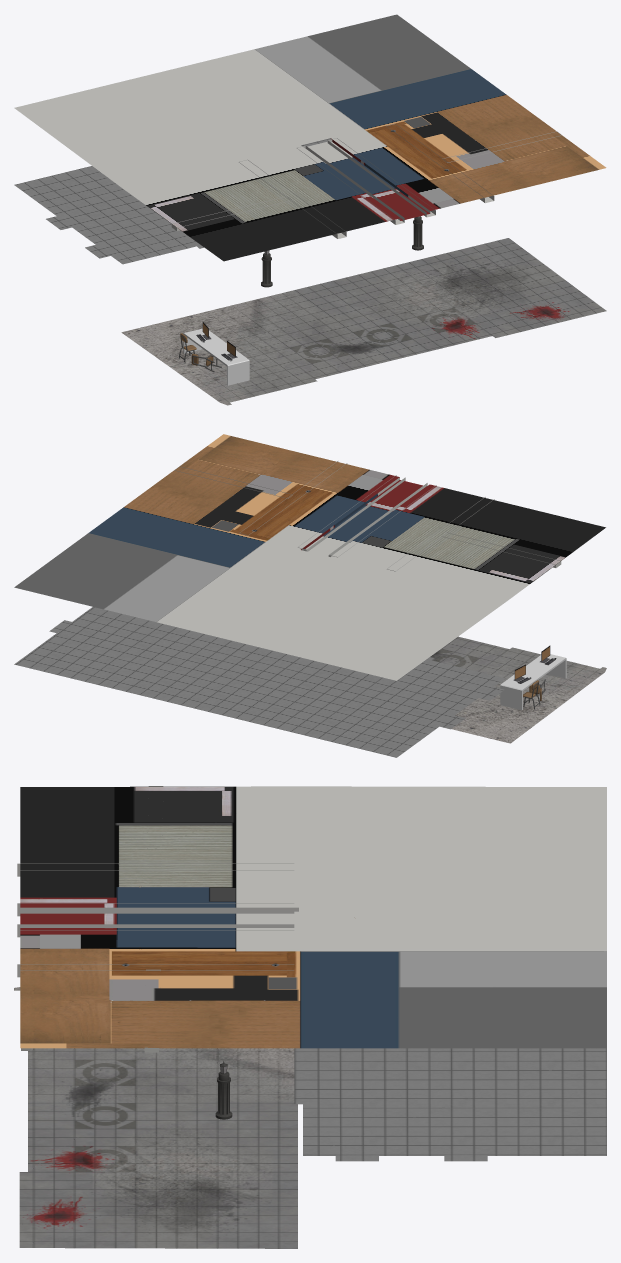
File: Cityhall_inside_floor.FBX
3 renders of one model, top to bottom at view 1: azimuth 30°, elevation 25°; view 2: azimuth 150°, elevation 25°; view 3: azimuth 270°, elevation 25°, orthographic. The views are drawn at different scales.
Parts seen in each view (by area): view 1: Cityhall_inside_bottom; view 2: Cityhall_inside_bottom; view 3: Cityhall_inside_bottom.
Boxes of the visible parts, bbox=[...] form: Cityhall_inside_bottom: bbox=[14, 14, 606, 405]; Cityhall_inside_bottom: bbox=[14, 434, 606, 757]; Cityhall_inside_bottom: bbox=[14, 786, 606, 1248].
Bounding box in the file's own units: 2560 × 879 × 2340.
